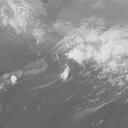cyclone: (29, 26, 104, 88)
